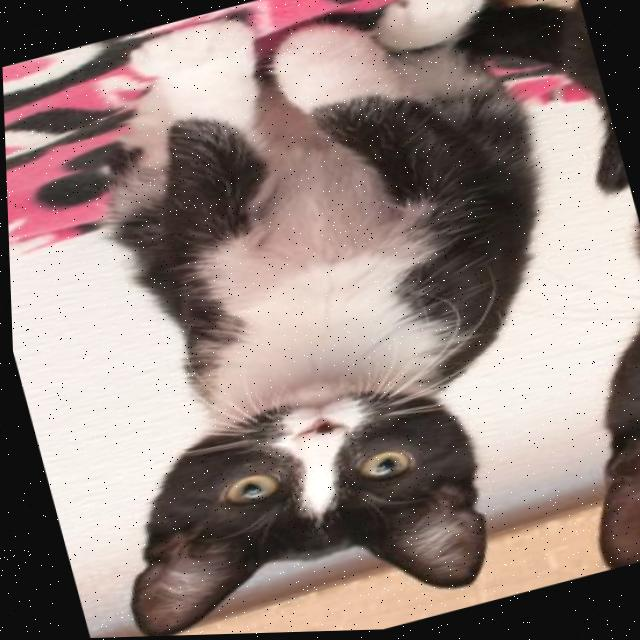Tuxedo: (0, 0, 633, 640)
